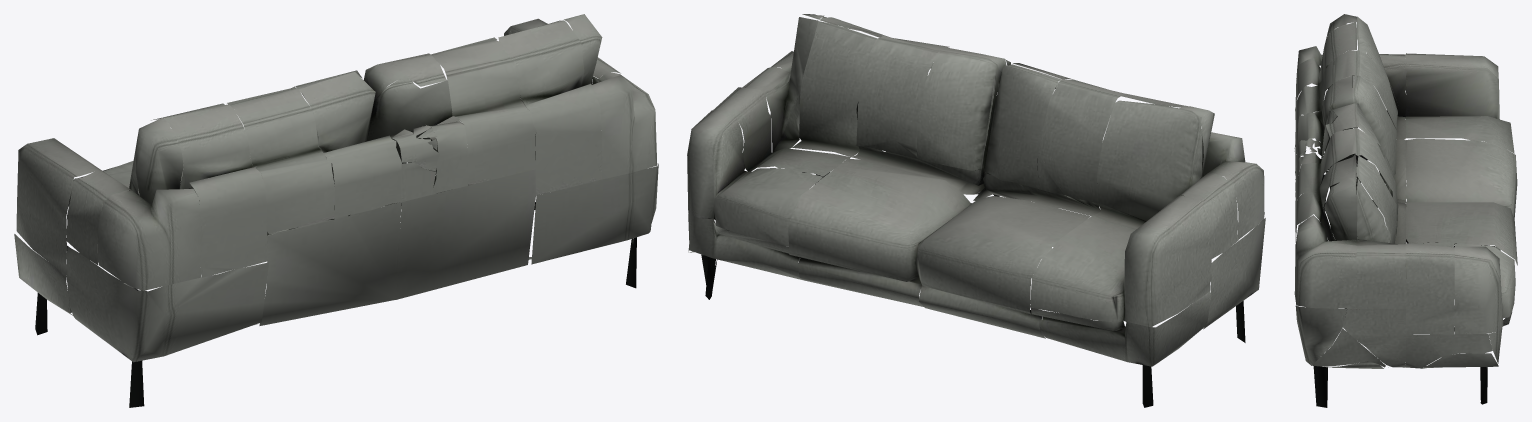
The model's file is lod2_source.glb.
3 renders of one model, left to right at view 1: azimuth 30°, elevation 25°; view 2: azimuth 150°, elevation 25°; view 3: azimuth 270°, elevation 25°, orthographic. The views are drawn at different scales.
Visible parts, largest first — view 1: geometry_0; view 2: geometry_0; view 3: geometry_0.
Boxes of the visible parts, box(x1,y1,x2,y2) form: geometry_0: box(14, 14, 658, 407); geometry_0: box(687, 14, 1265, 407); geometry_0: box(1294, 14, 1517, 407).
Bounding box in the file's own units: 1.8 × 0.8638 × 0.8182.
Materials: 1 (1 with a texture image).
